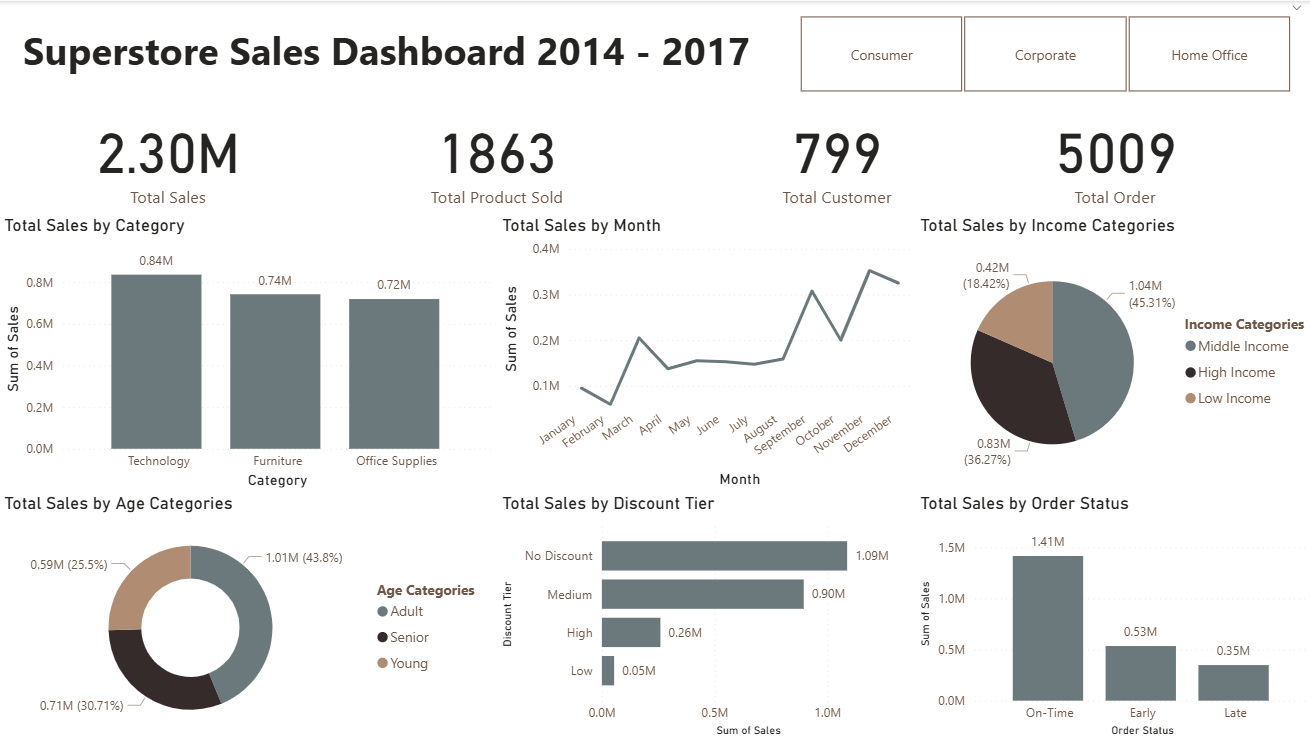

The dashboard page shown, as its layout file describes it:
{"tool":"powerbi","page":{"name":"Page 1","canvas":[1280,720],"ordinal":0},"visuals":[{"type":"card","fields":{"Values":["Sum(Master.Sales)"]},"box":[0,95.3,328.8,112.8],"z":0},{"type":"columnChart","title":"Total Sales by Category","fields":{"Category":["Master.Category"],"Y":["Sum(Master.Sales)"]},"box":[0,208.1,484.4,270.4],"z":1000},{"type":"textbox","box":[0,17.5,753.8,77.8],"z":2000},{"type":"card","fields":{"Values":["Count(Products_Augmented (1).Product ID)"]},"box":[328.8,95.3,311.2,112.8],"z":3000},{"type":"card","fields":{"Values":["Count(Customers_Augmented (1).Customer ID)"]},"box":[640,95.3,350.2,112.8],"z":4000},{"type":"donutChart","title":"Total Sales by Age Categories","fields":{"Category":["Customers_Augmented (1).Age Categories"],"Y":["Sum(Master.Sales)"]},"box":[0,478.5,484.4,241.2],"z":5000},{"type":"lineChart","title":"Total Sales by Month","fields":{"Category":["Master.Order Date.Variation.Date Hierarchy.Month","Master.Order Date.Variation.Date Hierarchy.Day"],"Y":["Sum(Master.Sales)"]},"box":[484.4,208.1,406.6,269.4],"z":6000},{"type":"barChart","title":"Total Sales by Discount Tier","fields":{"Category":["Master.Discount Tier"],"Y":["Sum(Master.Sales)"]},"box":[484.4,478.5,406.6,241.2],"z":7000},{"type":"pieChart","title":"Total Sales by Income Categories","fields":{"Category":["Customers_Augmented (1).Income Categories"],"Y":["Sum(Master.Sales)"]},"box":[890.9,208.1,389.1,268.4],"z":8000},{"type":"card","fields":{"Values":["Count(Master.Order ID)"]},"box":[890.9,95.3,389.1,112.8],"z":9000},{"type":"columnChart","title":"Total Sales by Order Status","fields":{"Category":["Shipping_Augmented (2).Order Status"],"Y":["Sum(Master.Sales)"]},"box":[891,479,389,241],"z":10000},{"type":"slicer","title":"Segment Slicer","fields":{"Values":["Master.Segment"]},"box":[753.8,0,526.2,95.3],"z":11000}]}

Visuals, with their boxes in screenshot pixels (x1, y1, x2, y2), scaled from the page's 1280x720 canvas onto the 1310x738 screenshot:
card - Sum(Master.Sales): detection(0, 98, 337, 213)
"Total Sales by Category" columnChart: detection(0, 213, 496, 490)
textbox: detection(0, 18, 771, 98)
card - Count(Products_Augmented (1).Product ID): detection(337, 98, 655, 213)
card - Count(Customers_Augmented (1).Customer ID): detection(655, 98, 1013, 213)
"Total Sales by Age Categories" donutChart: detection(0, 490, 496, 737)
"Total Sales by Month" lineChart: detection(496, 213, 912, 489)
"Total Sales by Discount Tier" barChart: detection(496, 490, 912, 737)
"Total Sales by Income Categories" pieChart: detection(912, 213, 1309, 488)
card - Count(Master.Order ID): detection(912, 98, 1309, 213)
"Total Sales by Order Status" columnChart: detection(912, 491, 1309, 737)
"Segment Slicer" slicer: detection(771, 0, 1309, 98)
